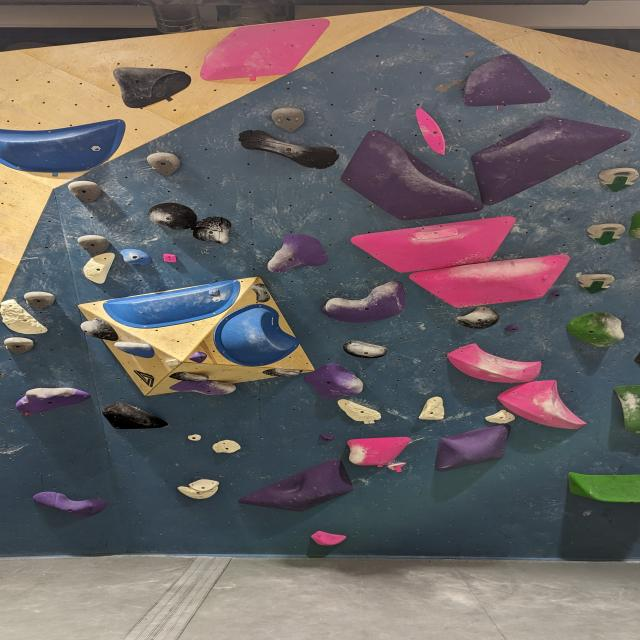hold: (471, 116, 632, 206), (341, 130, 484, 221), (350, 216, 516, 273), (408, 254, 571, 308), (199, 19, 330, 81), (103, 279, 241, 329), (0, 119, 126, 173), (238, 459, 354, 512), (213, 304, 300, 367), (463, 54, 551, 107), (497, 380, 587, 429), (238, 130, 340, 169), (447, 343, 541, 383), (434, 424, 511, 472), (320, 281, 406, 323), (112, 67, 192, 108), (267, 234, 328, 273), (568, 472, 639, 504), (303, 363, 364, 399), (566, 312, 625, 347), (15, 388, 91, 414), (102, 401, 169, 429), (33, 492, 108, 517), (347, 437, 411, 466), (0, 299, 48, 334), (415, 107, 446, 155), (148, 202, 197, 230), (613, 385, 639, 432), (191, 216, 232, 244), (455, 306, 500, 329), (83, 252, 115, 284), (169, 380, 236, 395), (337, 399, 382, 421), (598, 168, 639, 192), (80, 318, 119, 341), (271, 107, 305, 133), (146, 152, 181, 177), (587, 223, 626, 245), (343, 340, 388, 359), (68, 181, 103, 204), (577, 274, 615, 295), (114, 341, 155, 358), (77, 235, 111, 255), (419, 396, 444, 420), (24, 291, 55, 310), (311, 531, 347, 546), (4, 337, 34, 355), (177, 486, 218, 499), (120, 249, 151, 265), (485, 410, 515, 424), (251, 283, 270, 303), (212, 440, 241, 453), (188, 479, 219, 491), (262, 368, 303, 377), (169, 372, 209, 381), (629, 211, 639, 239), (189, 351, 207, 363), (386, 463, 406, 471), (318, 434, 336, 441), (163, 254, 177, 262), (549, 290, 562, 298), (505, 325, 519, 332), (188, 434, 202, 441), (165, 359, 179, 366), (633, 351, 639, 366)
volume: (78, 277, 317, 400)
